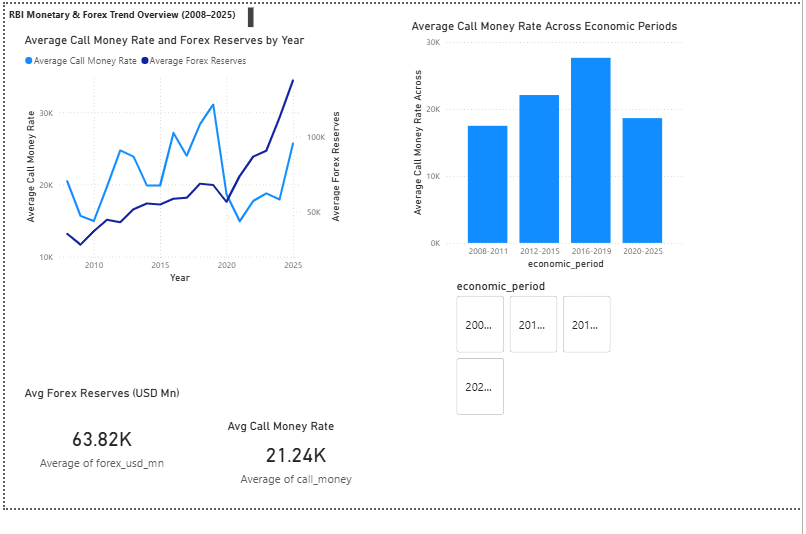

The dashboard page shown, as its layout file describes it:
{"tool":"powerbi","page":{"name":"Page 1","canvas":[1280,720],"ordinal":0},"visuals":[{"type":"lineChart","title":"Average Call Money Rate and Forex Reserves by Year","fields":{"Category":["rbi_analysis_ready.Week_ended.Variation.Date Hierarchy.Year"],"Y":["Avg(rbi_analysis_ready.call_money)"],"Y2":["Avg(rbi_analysis_ready.forex_usd_mn)"]},"box":[22.9,41.4,461.4,362.9],"z":0},{"type":"clusteredColumnChart","title":"Average Call Money Rate Across Economic Periods","fields":{"Category":["rbi_analysis_ready.economic_period"],"Y":["Avg(rbi_analysis_ready.call_money)"]},"box":[575.7,21.4,400,362.9],"z":1},{"type":"card","title":"Avg Call Money Rate","fields":{"Values":["Avg(rbi_analysis_ready.call_money)"]},"box":[312.9,592.9,205.7,101.4],"z":2},{"type":"card","title":"Avg Forex Reserves (USD Mn)","fields":{"Values":["Avg(rbi_analysis_ready.forex_usd_mn)"]},"box":[23,546,231,150],"z":3},{"type":"advancedSlicerVisual","fields":{"Values":["rbi_analysis_ready.economic_period"]},"box":[640,392.9,230,200],"z":5},{"type":"textbox","box":[0,0,360,41.4],"z":6}]}

Visuals, with their boxes in screenshot pixels (x1, y1, x2, y2):
"Average Call Money Rate and Forex Reserves by Year" lineChart: Rect(1, 0, 277, 217)
"Average Call Money Rate Across Economic Periods" clusteredColumnChart: Rect(332, 0, 572, 205)
"Avg Call Money Rate" card: Rect(175, 330, 298, 391)
"Avg Forex Reserves (USD Mn)" card: Rect(1, 302, 140, 392)
advancedSlicerVisual - rbi_analysis_ready.economic_period: Rect(371, 210, 509, 330)
